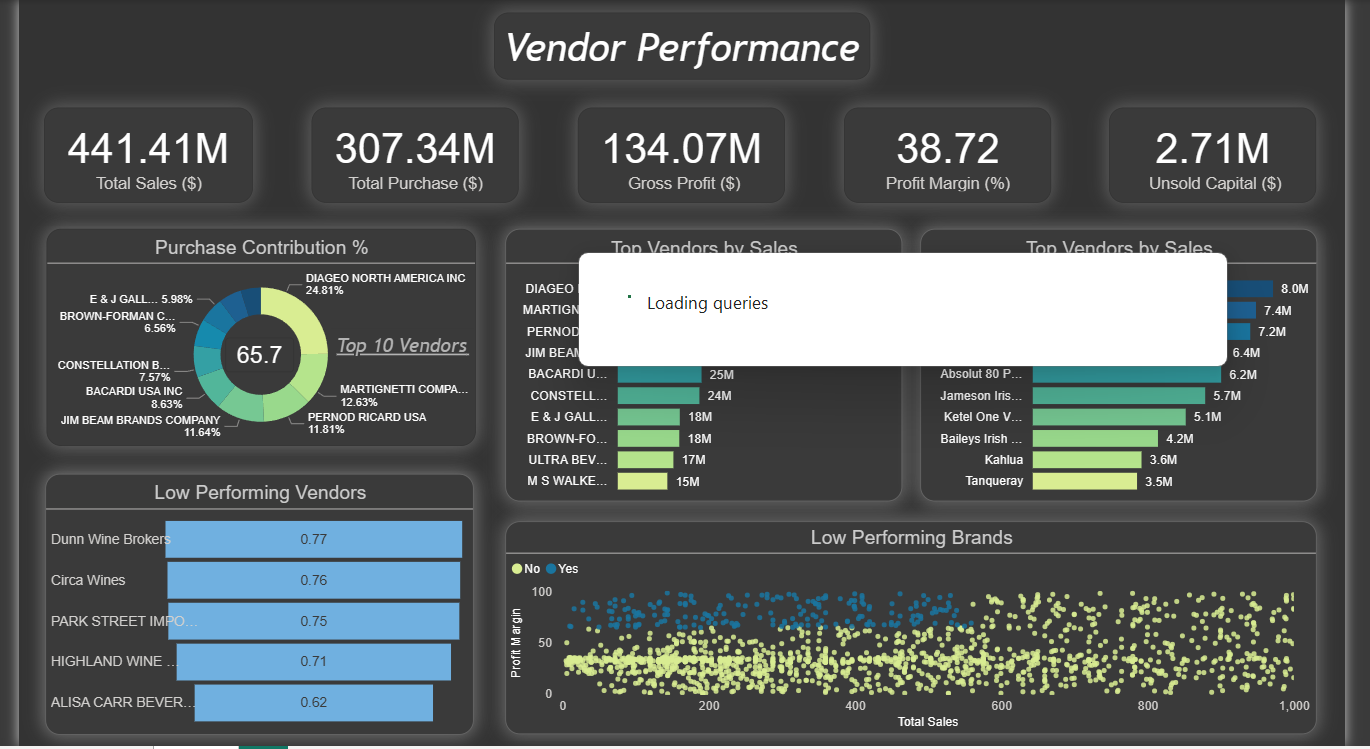

The page's visual inventory and layout, read from the dashboard file:
{"tool":"powerbi","page":{"name":"Main","canvas":[1280,720],"ordinal":0},"visuals":[{"type":"card","fields":{"Values":["Sum(Vendor_Sales_Summary.TotalSalesDollars)"]},"box":[24.7,104.3,201.7,91.9],"z":0},{"type":"card","fields":{"Values":["Sum(Vendor_Sales_Summary.TotalPurchaseDollars)"]},"box":[282.7,104.3,200.3,91.9],"z":1000},{"type":"card","fields":{"Values":["Sum(Vendor_Sales_Summary.GrossProfit)"]},"box":[539.3,104.3,200.3,91.9],"z":2000},{"type":"card","fields":{"Values":["Avg(Vendor_Sales_Summary.ProfitMargin)"]},"box":[795.9,104.3,200.3,91.9],"z":3000},{"type":"card","fields":{"Values":["Sum(Vendor_Sales_Summary.UnsoldCapital)"]},"box":[1052.5,104.3,200.3,91.9],"z":4000},{"type":"textbox","box":[458.4,12.1,363.1,65.1],"z":5000},{"type":"donutChart","title":"Purchase Contribution %","fields":{"Category":["PurchaseContribution.VendorName"],"Y":["Sum(PurchaseContribution.PurchaseContribution%)"]},"box":[26.1,220.9,414.4,209.9],"z":6000},{"type":"textbox","box":[301.6,317.3,137.5,42.2],"z":7000},{"type":"card","fields":{"Values":["Sum(PurchaseContribution.PurchaseContribution%)"]},"box":[199.1,325.7,66.4,33.8],"z":8000},{"type":"barChart","title":"Top Vendors by Sales","fields":{"Category":["Vendor_Sales_Summary.VendorName"],"Y":["Sum(Vendor_Sales_Summary.TotalSalesDollars)"]},"box":[469.3,220.9,382.8,263.5],"z":8001},{"type":"funnel","title":"Low Performing Vendors","fields":{"Y":["Sum(LowTurnoverrVendor.AverageStockTurnover)"],"Category":["LowTurnoverrVendor.VendorName"]},"box":[25.3,457.2,413.8,252.1],"z":8003},{"type":"barChart","title":"Top Vendors by Sales","fields":{"Y":["Sum(Vendor_Sales_Summary.TotalSalesDollars)"],"Category":["Vendor_Sales_Summary.Description"]},"box":[870,220.9,382.8,263.5],"z":8004},{"type":"scatterChart","title":"Low Performing Brands","fields":{"Category":["BrandPerformance.Description"],"X":["Sum(BrandPerformance.Total Sales)"],"Y":["Sum(BrandPerformance.Average ProfitMargin)"],"Series":["BrandPerformance.TargetBrand"]},"box":[469.3,503.6,783.5,205.8],"z":8005}]}

Visuals, with their boxes in screenshot pixels (x1, y1, x2, y2), scaled from the page's 1280x720 canvas onto the 1370x749 screenshot:
card - Sum(Vendor_Sales_Summary.TotalSalesDollars): bbox=(26, 109, 242, 204)
card - Sum(Vendor_Sales_Summary.TotalPurchaseDollars): bbox=(303, 109, 517, 204)
card - Sum(Vendor_Sales_Summary.GrossProfit): bbox=(577, 109, 792, 204)
card - Avg(Vendor_Sales_Summary.ProfitMargin): bbox=(852, 109, 1066, 204)
card - Sum(Vendor_Sales_Summary.UnsoldCapital): bbox=(1127, 109, 1341, 204)
textbox: bbox=(491, 13, 879, 80)
"Purchase Contribution %" donutChart: bbox=(28, 230, 471, 448)
textbox: bbox=(323, 330, 470, 374)
card - Sum(PurchaseContribution.PurchaseContribution%): bbox=(213, 339, 284, 374)
"Top Vendors by Sales" barChart: bbox=(502, 230, 912, 504)
"Low Performing Vendors" funnel: bbox=(27, 476, 470, 738)
"Top Vendors by Sales" barChart: bbox=(931, 230, 1341, 504)
"Low Performing Brands" scatterChart: bbox=(502, 524, 1341, 738)
